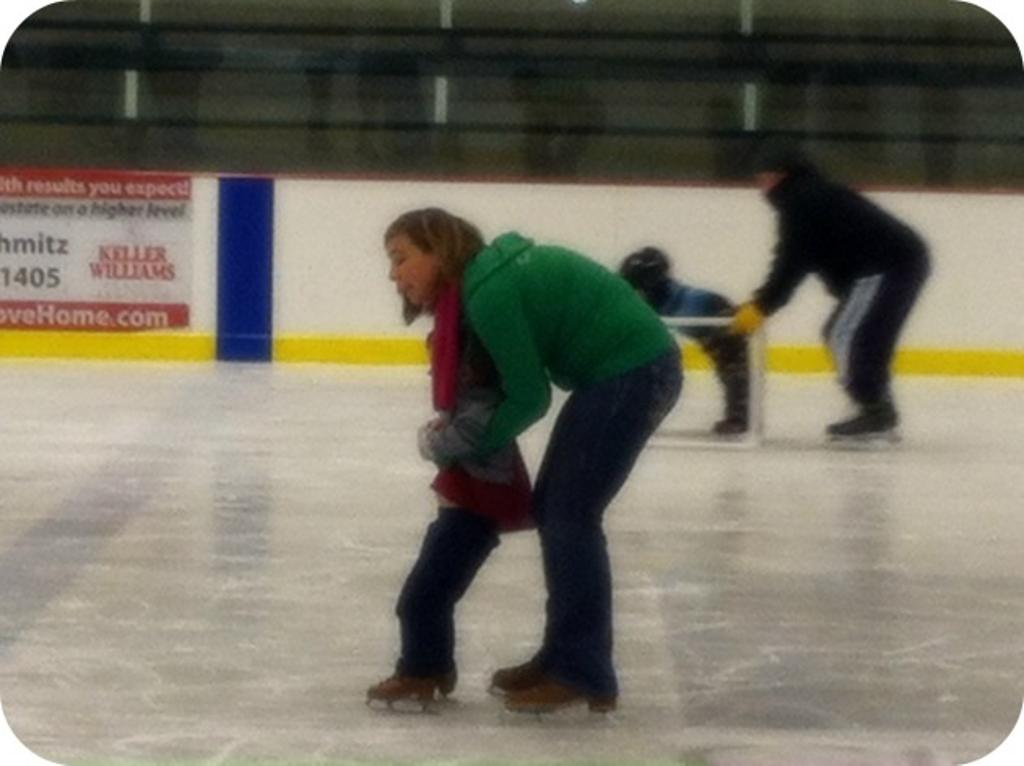face: (389, 232, 434, 307), (756, 168, 773, 197)
